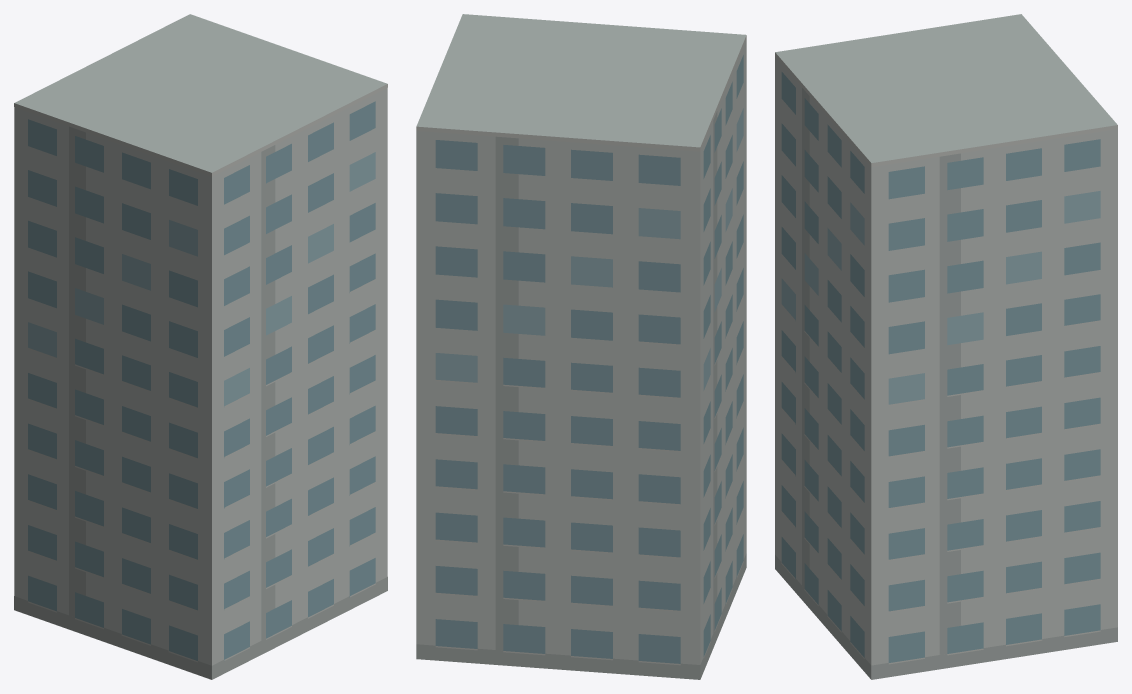
The model's file is residential-38cfd71c-e1a6-4fc4-9b39-9fce61ffa146.glb.
The picture shows the model from 3 angles, left to right: view 1: azimuth 30°, elevation 25°; view 2: azimuth 150°, elevation 25°; view 3: azimuth 270°, elevation 25°; orthographic projection. The views are drawn at different scales.
Parts seen in each view (by area): view 1: residential-38cfd71c-e1a6-4fc4-9b39-9fce61ffa146.tmp; view 2: residential-38cfd71c-e1a6-4fc4-9b39-9fce61ffa146.tmp; view 3: residential-38cfd71c-e1a6-4fc4-9b39-9fce61ffa146.tmp.
Boxes of the visible parts, left/top/right/bottom form: residential-38cfd71c-e1a6-4fc4-9b39-9fce61ffa146.tmp: left=14, top=14, right=387, bottom=679; residential-38cfd71c-e1a6-4fc4-9b39-9fce61ffa146.tmp: left=416, top=14, right=746, bottom=679; residential-38cfd71c-e1a6-4fc4-9b39-9fce61ffa146.tmp: left=775, top=14, right=1117, bottom=679.
Bounding box in the file's own units: 18.89 × 30.5 × 18.35.
